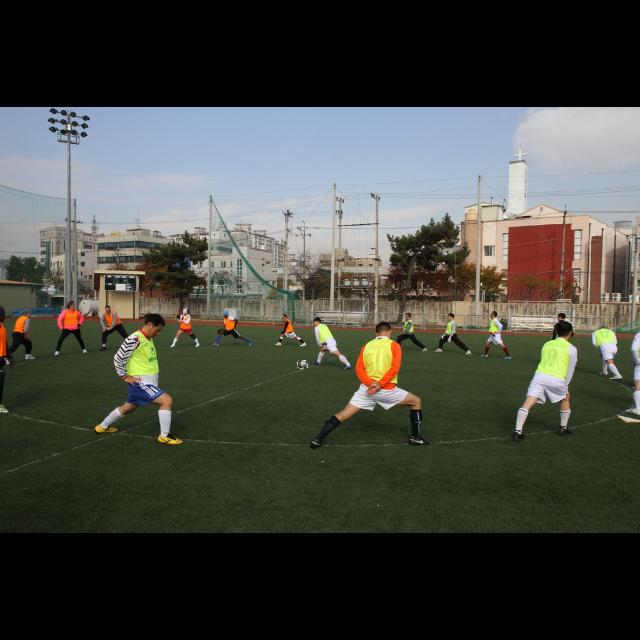Football: (298, 361, 308, 369)
